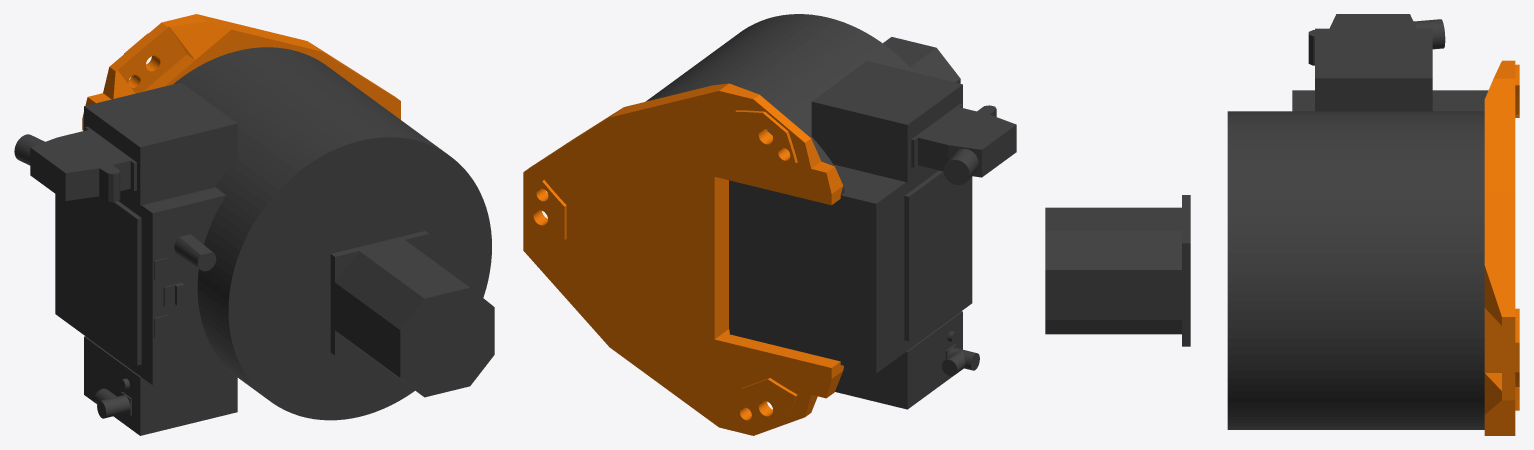
The model's file is Eslabon0.obj.
3 renders of one model, left to right at view 1: azimuth 30°, elevation 25°; view 2: azimuth 150°, elevation 25°; view 3: azimuth 270°, elevation 25°, orthographic. The views are drawn at different scales.
Parts seen in each view (by area): view 1: base; view 2: base; view 3: base.
Boxes of the visible parts, bbox=[...] form: base: bbox=[14, 14, 494, 435]; base: bbox=[523, 14, 1016, 435]; base: bbox=[1045, 14, 1519, 435].
Size of the model in its own units: 0.6843 by 0.5361 by 0.6445.
